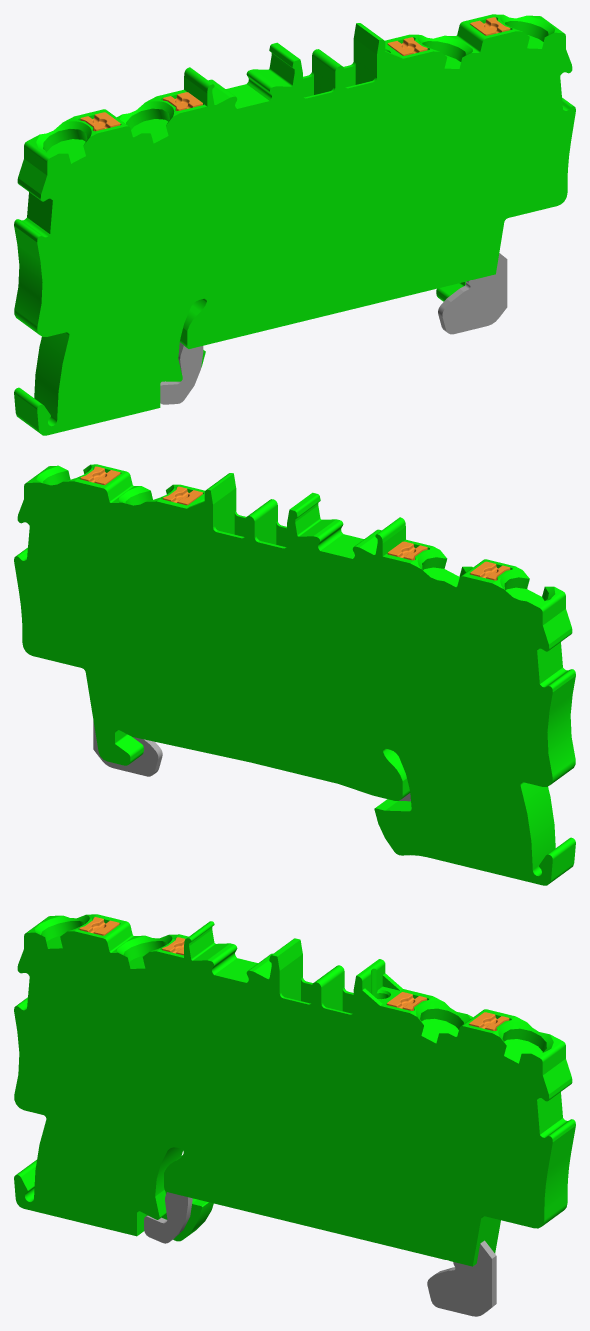
Rendered from Wago.2202-1407.glb.
3 views of the same model, one above another, from view 1: azimuth 30°, elevation 25°; view 2: azimuth 150°, elevation 25°; view 3: azimuth 330°, elevation 25° (orthographic).
Visible parts, largest first — view 1: 2202-1407_HI; view 2: 2202-1407_HI; view 3: 2202-1407_HI.
Part boxes in pixels (left/top/right/bottom): 2202-1407_HI: left=14, top=14, right=575, bottom=435; 2202-1407_HI: left=14, top=464, right=575, bottom=885; 2202-1407_HI: left=14, top=914, right=575, bottom=1316.
Bounding box in the file's own units: 69.85 × 39.5 × 5.2.
